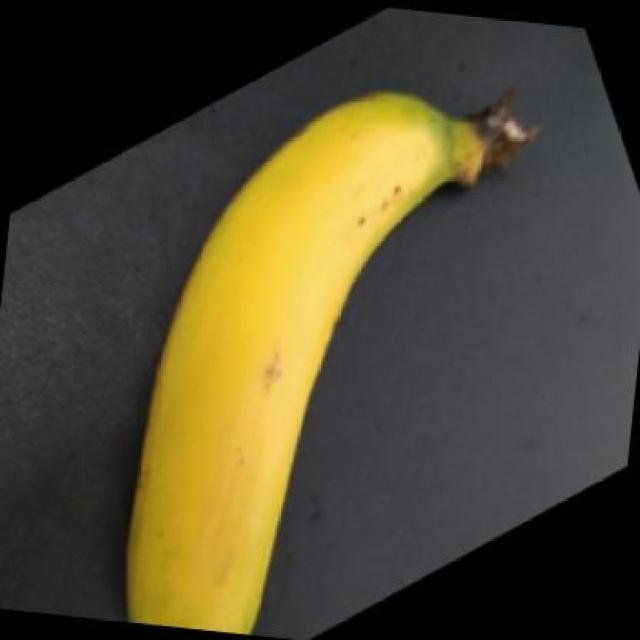Ripe: (110, 46, 520, 640)
